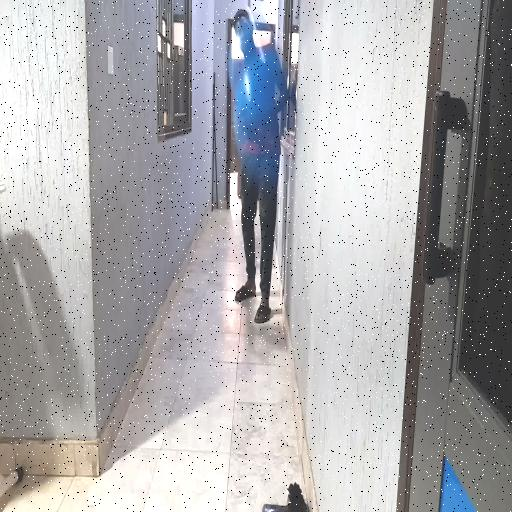plastic-ball: (228, 13, 298, 181)
